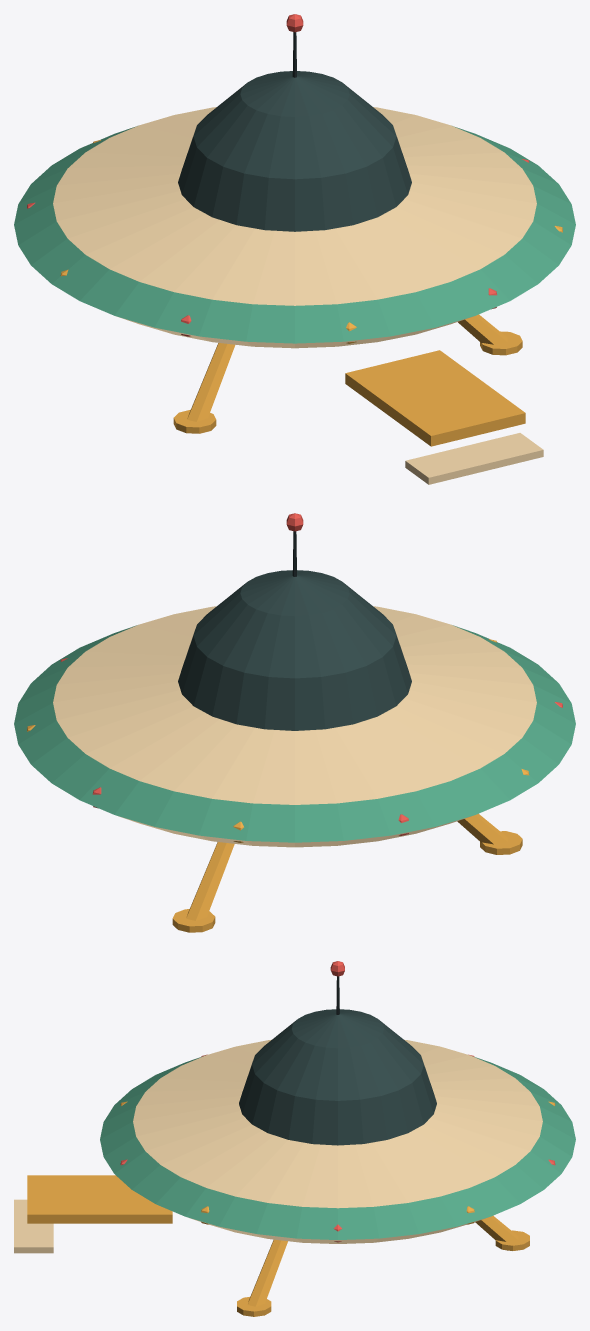
File: ParkParkUfo.obj
3 renders of one model, top to bottom at view 1: azimuth 30°, elevation 25°; view 2: azimuth 150°, elevation 25°; view 3: azimuth 270°, elevation 25°, orthographic. The views are drawn at different scales.
Visible parts, largest first — view 1: ParkParkUfo; view 2: ParkParkUfo; view 3: ParkParkUfo.
Part boxes in pixels (x1,y1,x2,y2): ParkParkUfo: [14, 14, 575, 484]; ParkParkUfo: [14, 513, 575, 932]; ParkParkUfo: [14, 961, 575, 1316].
Bounding box in the file's own units: 14.4 × 9.63 × 17.
